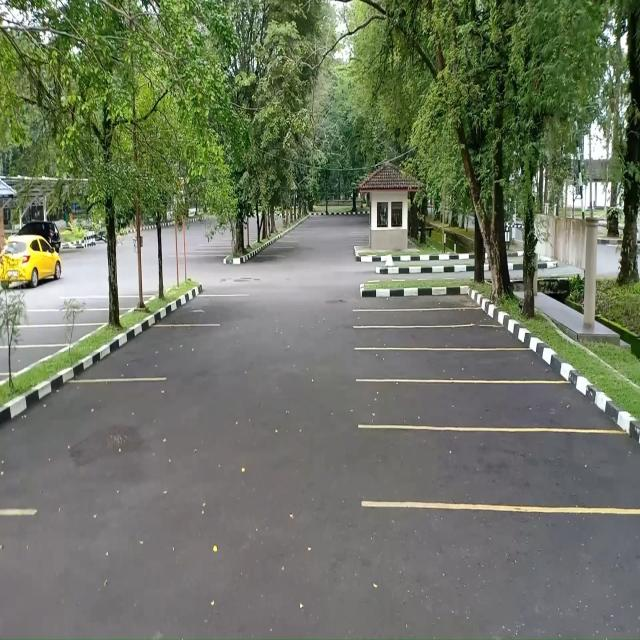empty: (365, 423, 634, 512), (24, 378, 112, 515), (367, 379, 600, 430), (388, 347, 532, 382), (119, 324, 199, 382), (377, 325, 508, 351), (372, 308, 489, 328), (185, 294, 239, 326), (24, 324, 86, 346), (34, 308, 108, 326), (0, 345, 44, 373)
